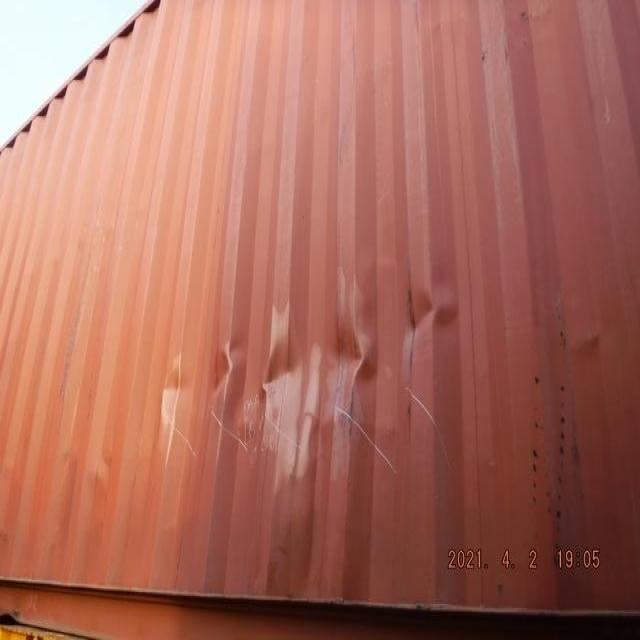dent: (134, 264, 471, 513)
